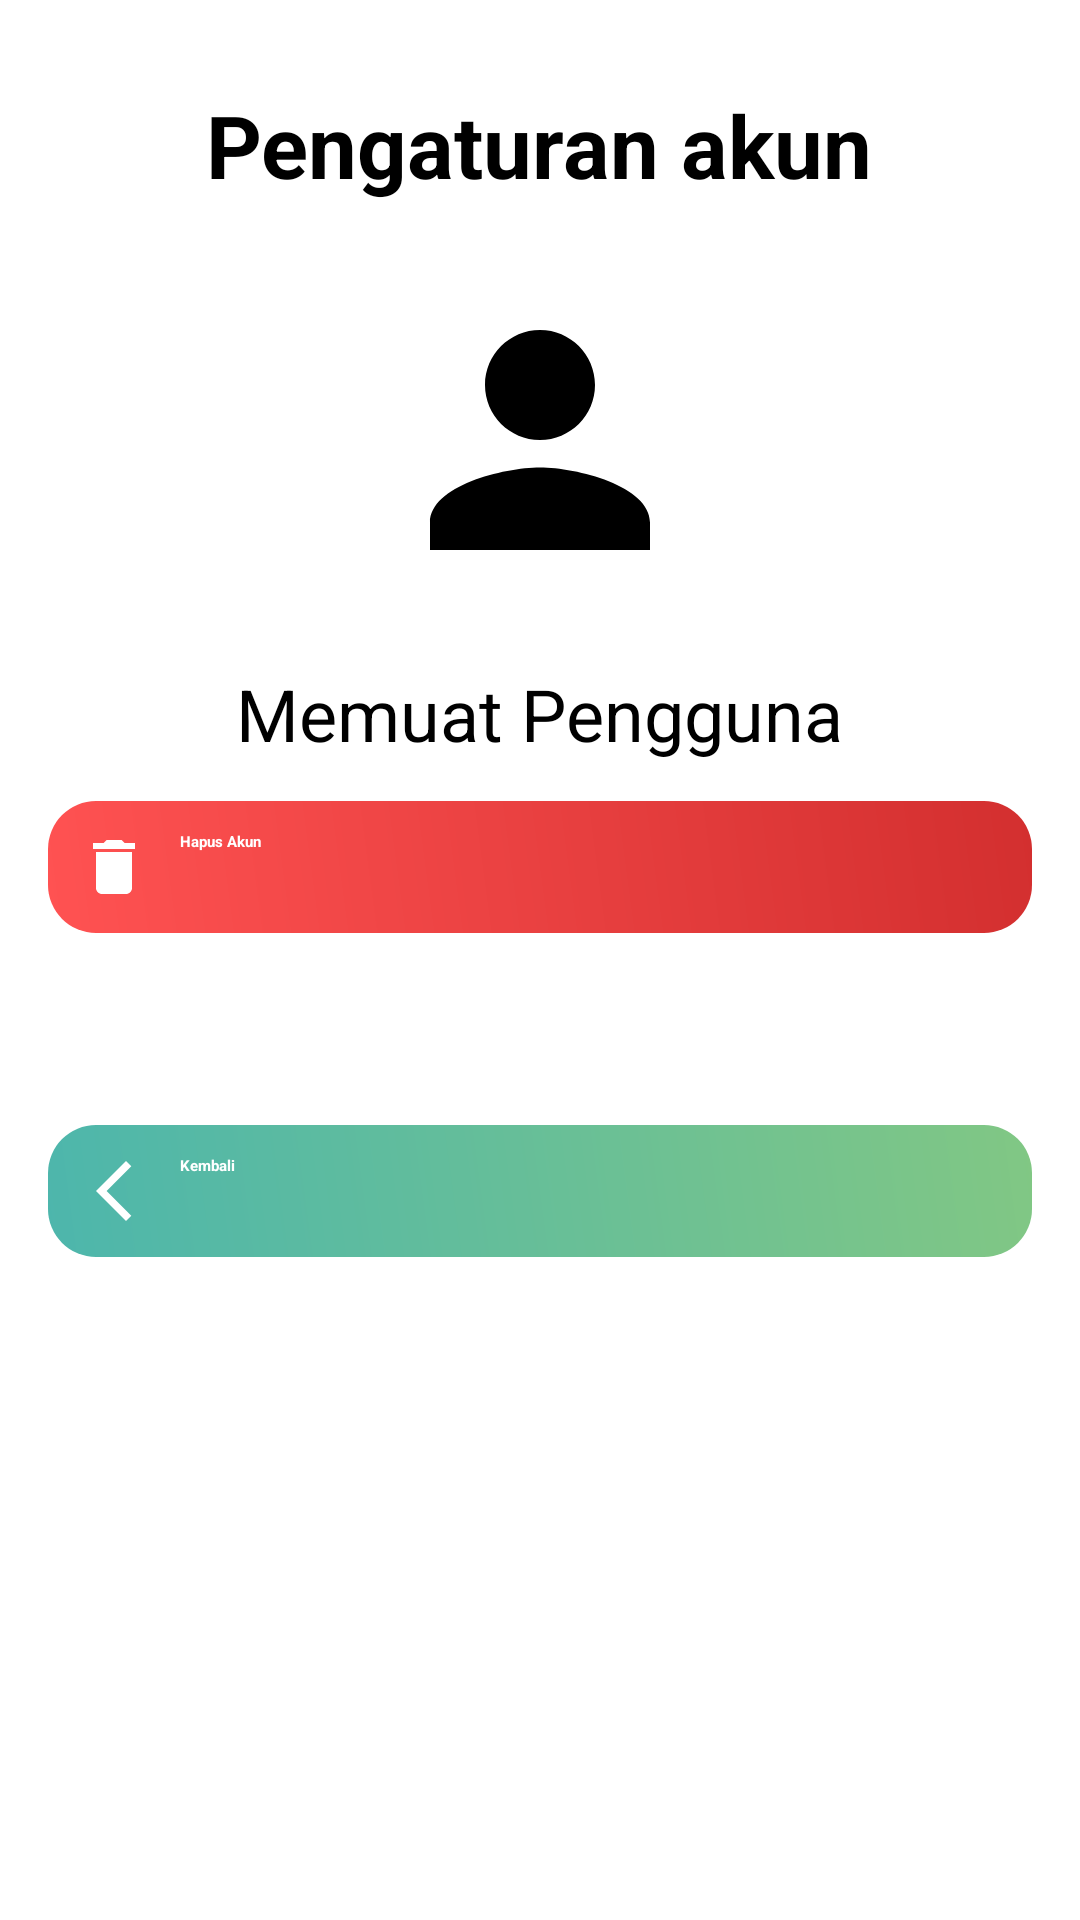

Icon click points for this 1080px x 1920px phone screenshot, format [x,y]:
user: [540,440]
